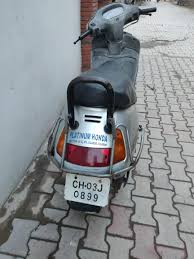doublelinenumberplate: (63, 172, 111, 207)
